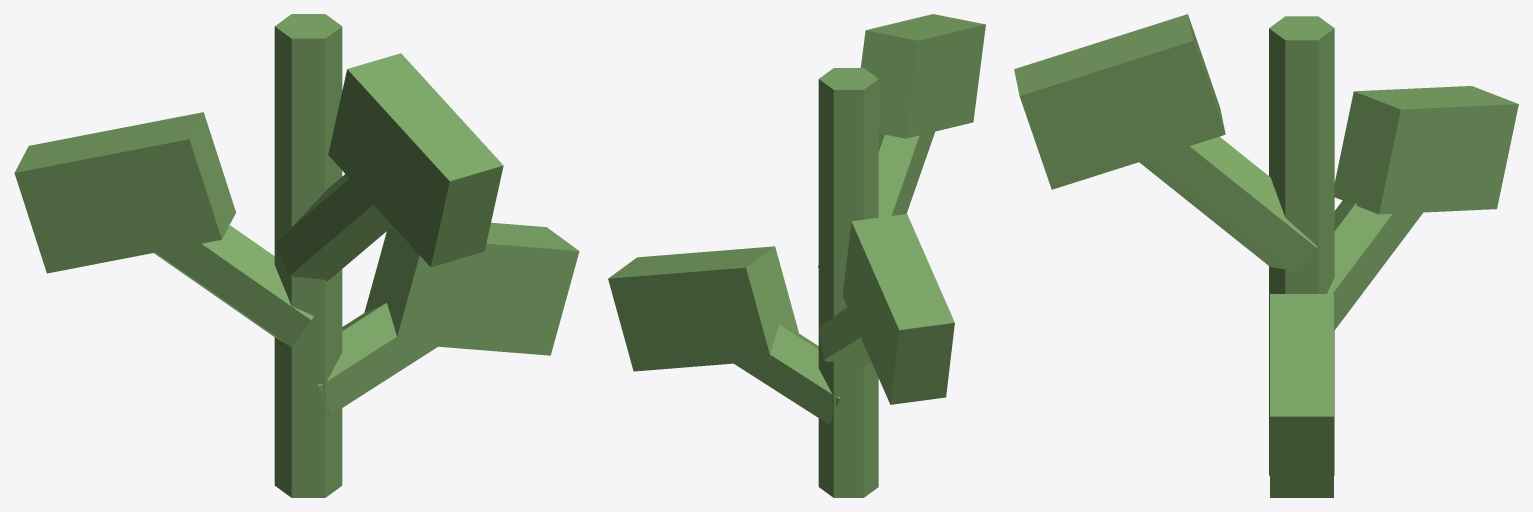
The model's file is campaign_herb_1.glb.
3 views of the same model, side by side, from view 1: azimuth 30°, elevation 25°; view 2: azimuth 150°, elevation 25°; view 3: azimuth 270°, elevation 25° (orthographic). The views are drawn at different scales.
Parts seen in each view (by area): view 1: campaign_herb_1; view 2: campaign_herb_1; view 3: campaign_herb_1.
Boxes of the visible parts, left/top/right/bottom form: campaign_herb_1: left=14, top=14, right=579, bottom=497; campaign_herb_1: left=608, top=14, right=985, bottom=497; campaign_herb_1: left=1014, top=14, right=1518, bottom=497.
Size of the model in its own units: 0.2839 by 0.2729 by 0.2764.
